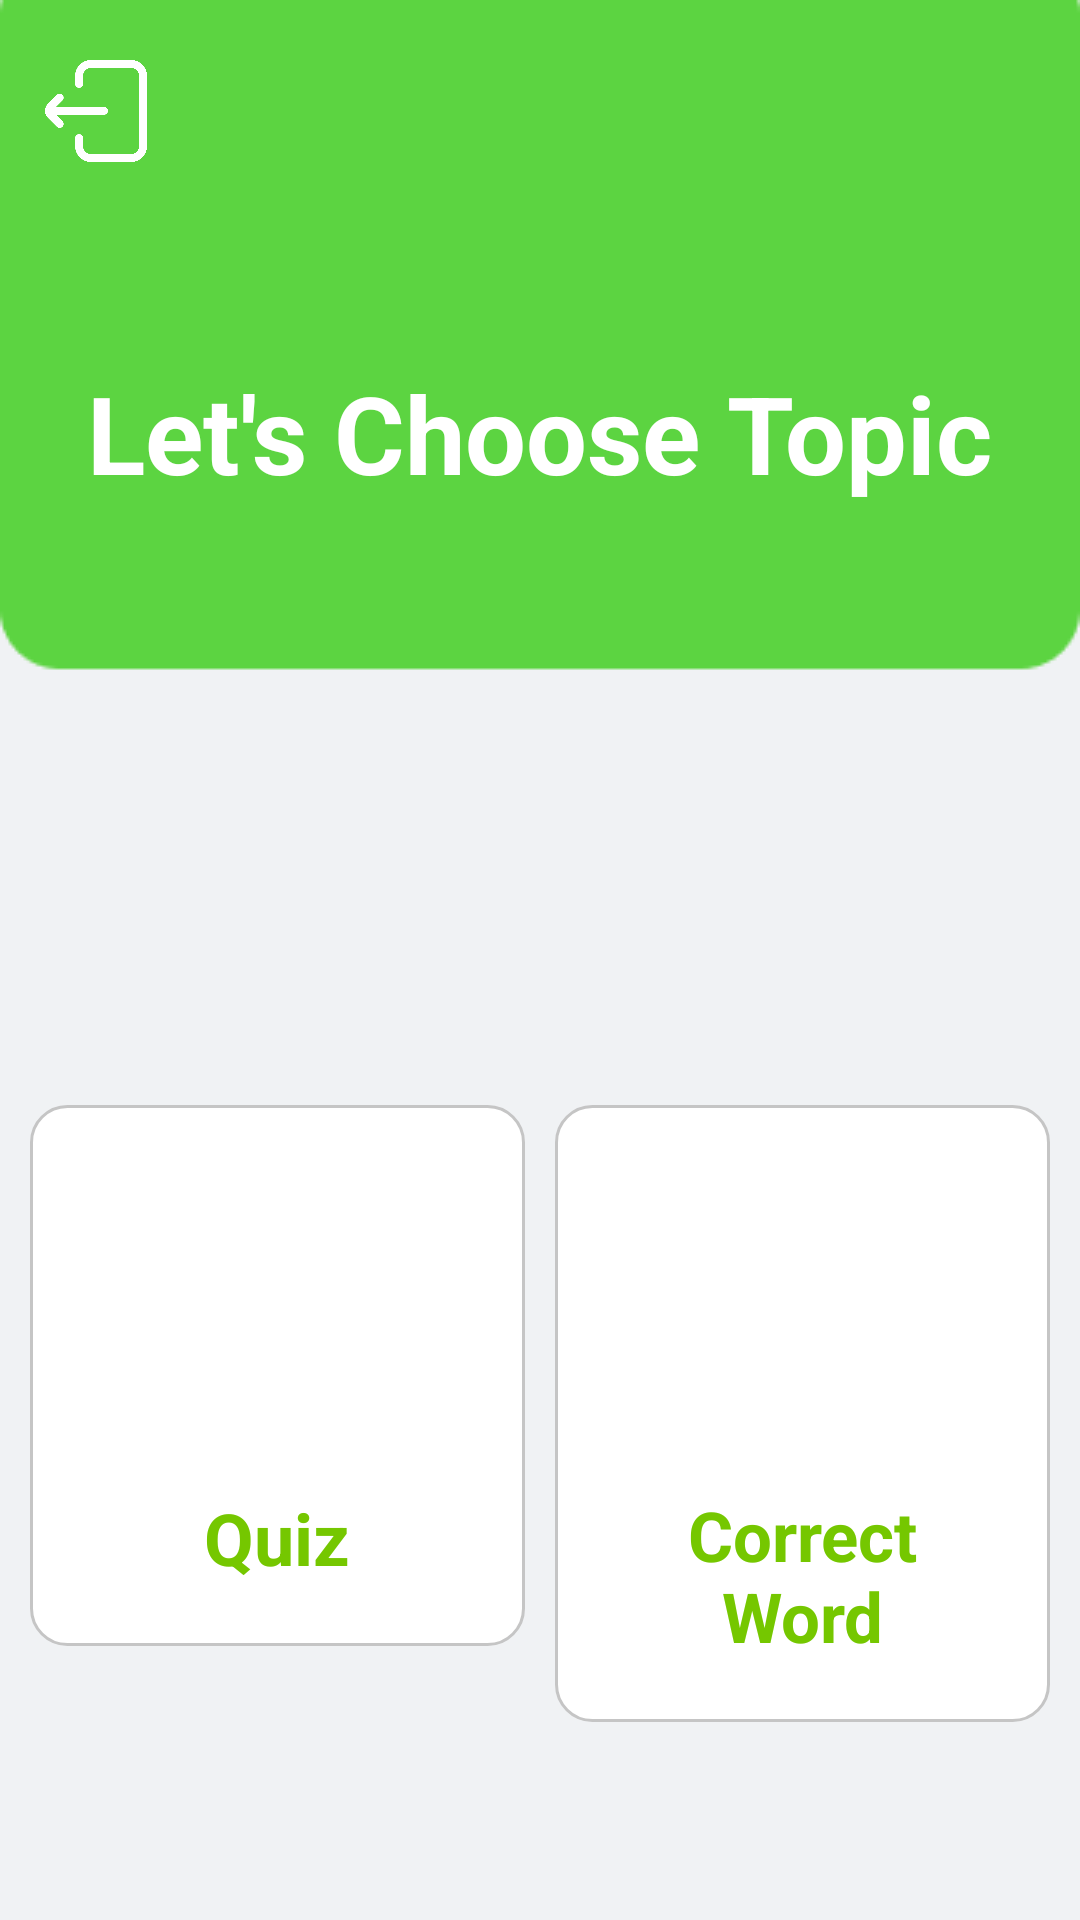

Screen size 1080px x 1920px. Icon name, then its center in pixels as (x,y):
exit: (96,111)
